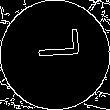L_W: (29, 38, 81, 72)
